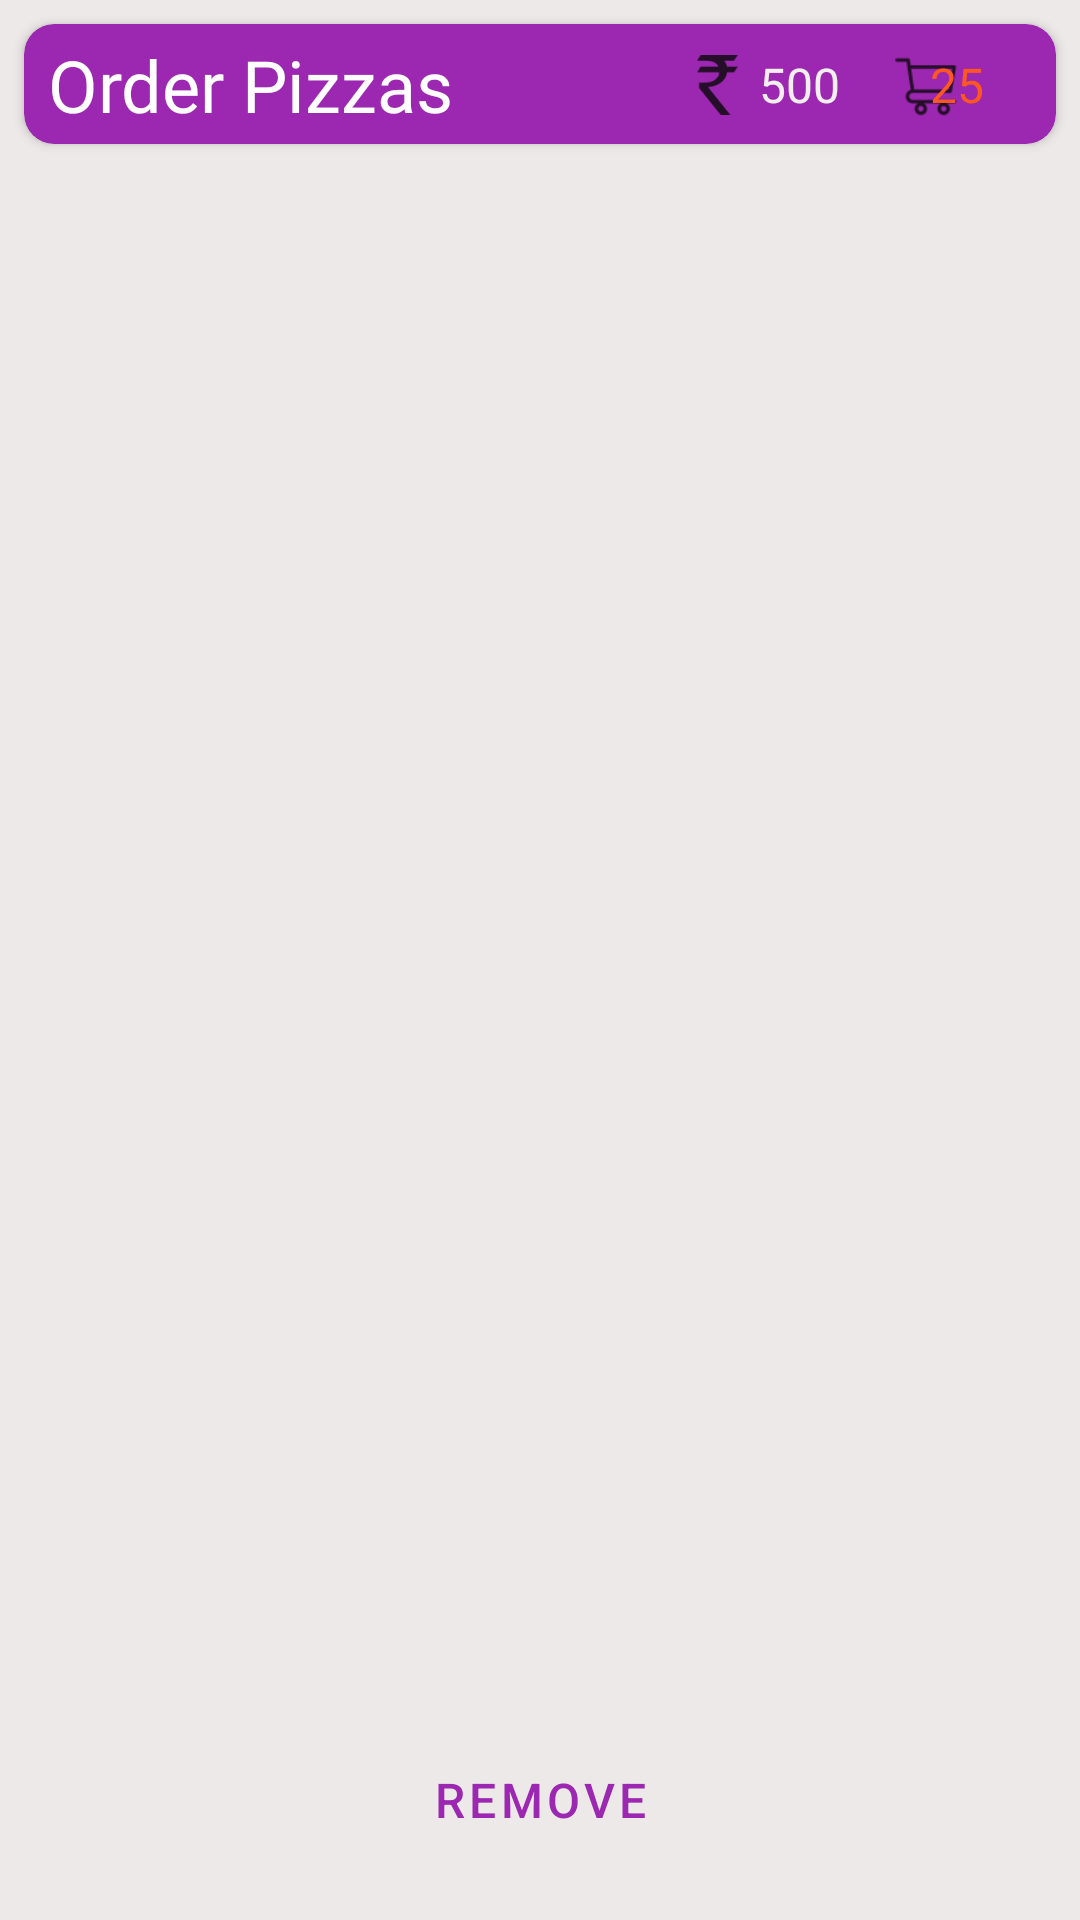

Screen size 1080px x 1920px. Icon name, then its center in pixels as (x,y):
rupee: (717,85)
